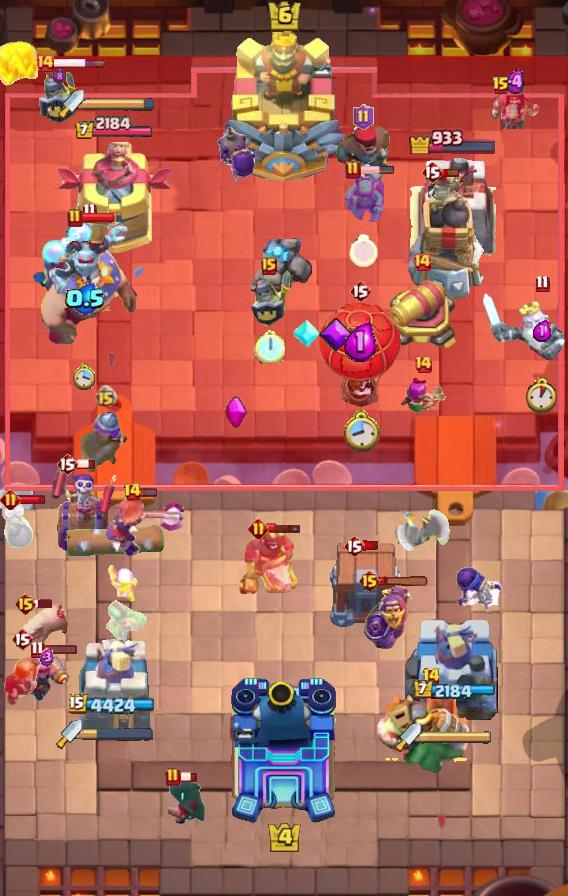archer: (399, 378, 447, 424)
axe: (395, 496, 451, 554)
bandit: (164, 779, 208, 827)
bar: (52, 58, 106, 69), (378, 576, 430, 587), (266, 522, 302, 534), (80, 212, 116, 224), (10, 494, 47, 505), (42, 644, 78, 655), (359, 165, 395, 175), (178, 771, 198, 783), (76, 458, 96, 470), (34, 598, 54, 609), (440, 167, 460, 178), (139, 487, 158, 498), (363, 540, 380, 551)
bar-level: (14, 592, 37, 616), (358, 569, 381, 593), (353, 104, 374, 130), (94, 385, 117, 408), (11, 627, 33, 651), (343, 534, 365, 558), (56, 452, 78, 476), (349, 279, 371, 303), (421, 160, 443, 184), (248, 518, 269, 539), (0, 489, 21, 510), (413, 354, 433, 374), (412, 252, 432, 272), (35, 53, 55, 73), (422, 667, 441, 687), (123, 482, 142, 502), (492, 76, 510, 96), (165, 767, 181, 787), (67, 208, 83, 228), (345, 160, 361, 180), (261, 257, 277, 275), (30, 640, 45, 659), (535, 274, 550, 293), (82, 202, 97, 221)
bomber: (0, 498, 36, 554)
bomber-evolution: (213, 125, 259, 189), (453, 565, 505, 619)
clock: (341, 408, 380, 452), (524, 377, 560, 414), (254, 329, 285, 364), (349, 234, 378, 268), (73, 362, 97, 390)
dagger-duchess-tower: (55, 142, 173, 256), (405, 611, 501, 731), (77, 637, 151, 731)
dagger-duchess-tower-bar: (421, 730, 493, 744), (82, 727, 154, 741), (84, 97, 156, 111)
elixir: (344, 321, 377, 362), (65, 283, 106, 315), (506, 69, 525, 95), (533, 320, 551, 342), (40, 648, 54, 667), (53, 69, 65, 84)
evolution-symbol: (318, 317, 354, 353), (224, 395, 248, 429)
firecracker: (22, 648, 72, 702)
golemite: (246, 238, 312, 300)
guard: (245, 266, 293, 326), (38, 63, 80, 127)
hog: (12, 602, 70, 652)
hunter: (333, 122, 393, 194)
ice-spirit-evolution-symbol: (292, 318, 320, 350)
king-tower: (220, 21, 348, 181), (228, 676, 340, 826)
knight-evolution: (363, 585, 412, 650)
mega-minion: (46, 222, 132, 300)
musketeer: (81, 412, 129, 474)
queen-tower: (410, 156, 496, 256)
royal-ghost: (480, 292, 568, 372)
skeleton: (107, 565, 139, 601)
spear-goblin: (99, 600, 147, 644), (342, 175, 384, 223)
the-log: (65, 522, 165, 558)
tower-bar: (408, 126, 498, 154), (69, 694, 159, 717), (74, 116, 154, 141), (412, 680, 495, 701)
valkyrie: (0, 647, 54, 707)
valkyrie-evolution: (104, 494, 187, 558)
wizard: (490, 85, 540, 129)
